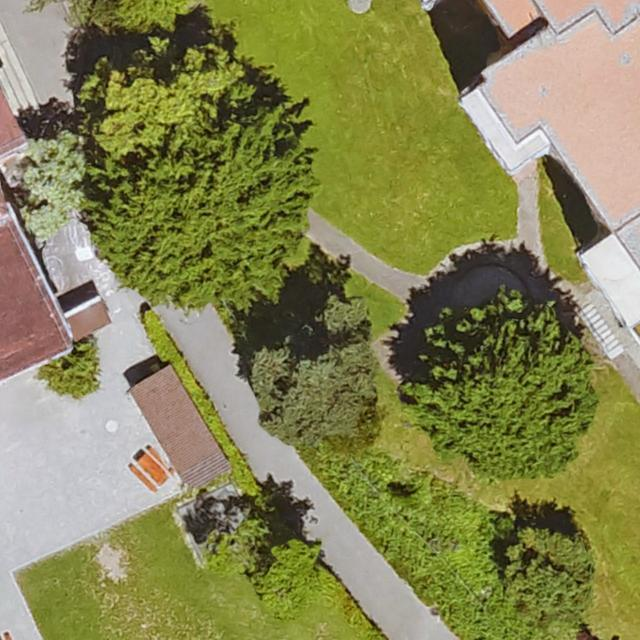tree: (96, 111, 311, 305), (414, 299, 591, 478), (81, 46, 245, 161), (251, 342, 378, 447), (497, 526, 594, 621), (15, 137, 90, 215), (47, 0, 215, 32), (257, 540, 322, 617), (40, 340, 102, 402)
